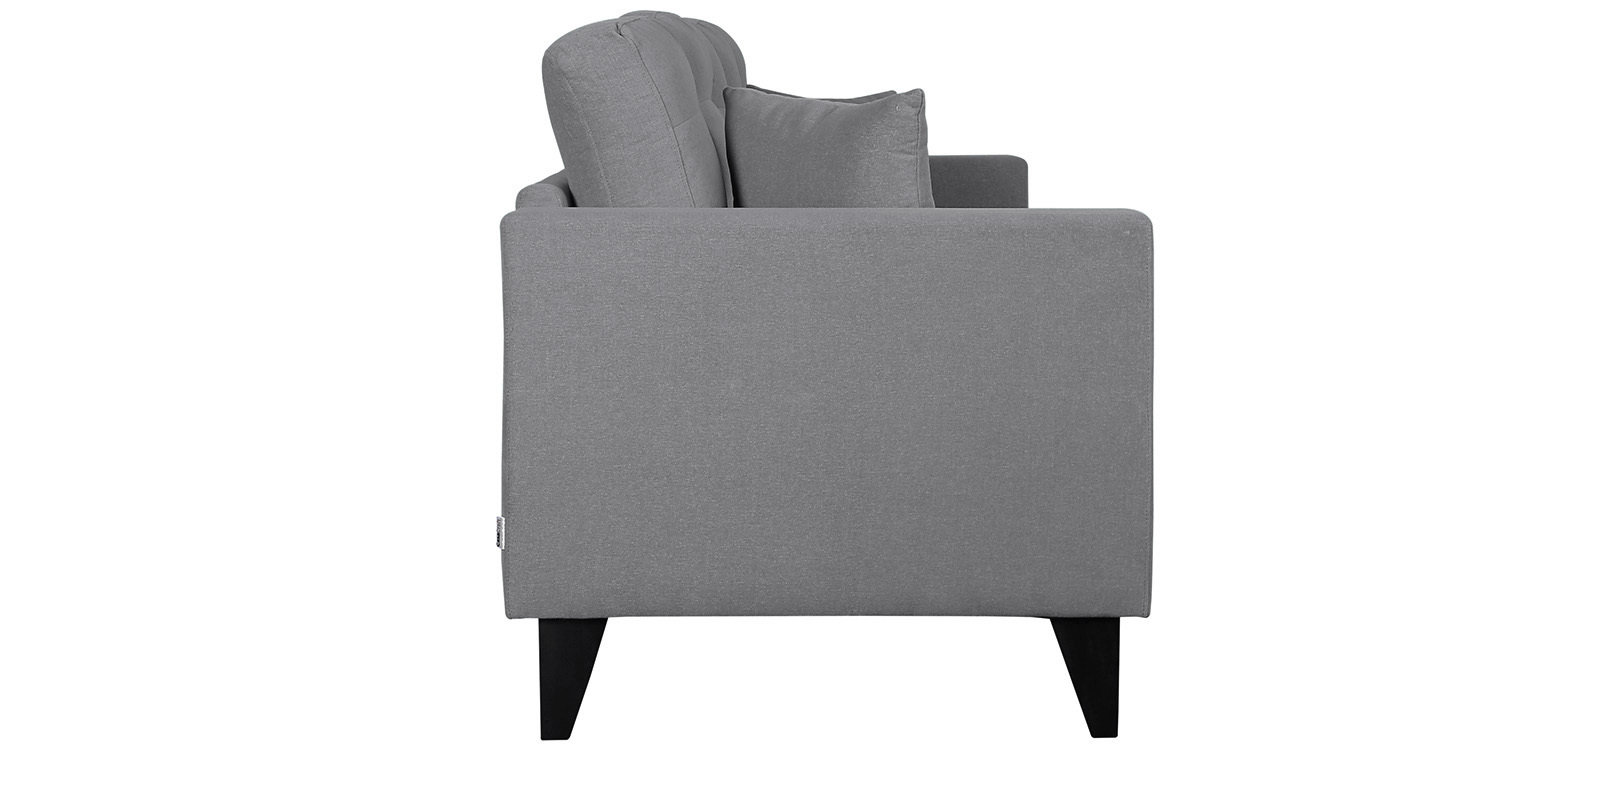Alfredo Three Seater Sofa in Ash Grey Colour by CasaCraft: (478, 10, 1172, 760)
